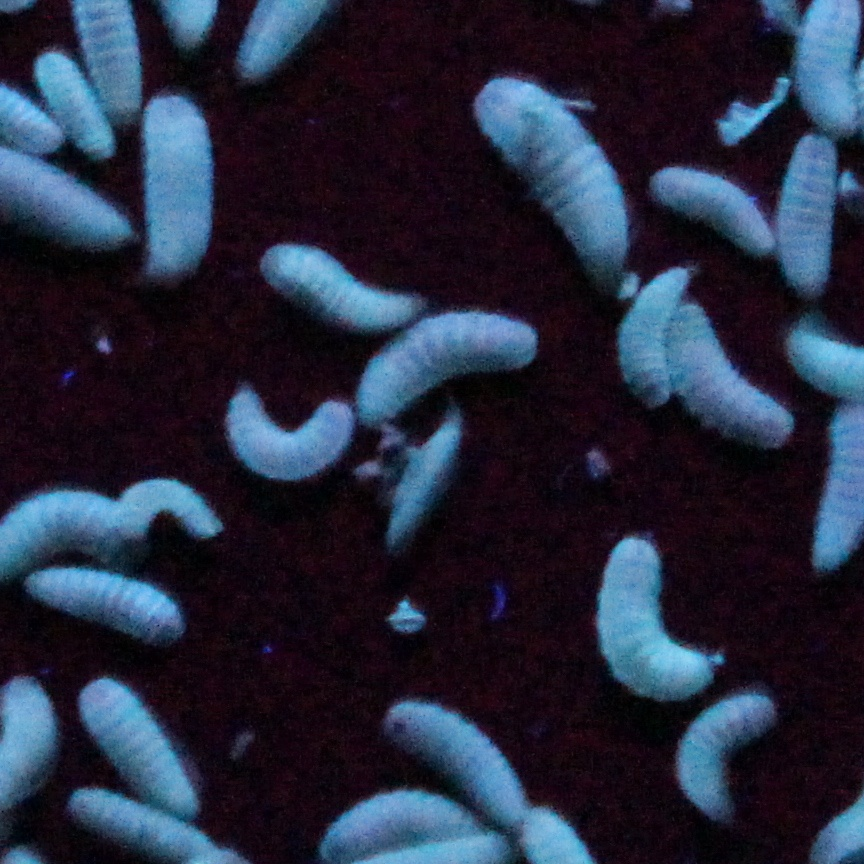larve: (467, 71, 646, 264), (599, 526, 712, 707), (358, 319, 558, 421), (385, 694, 535, 828), (133, 94, 224, 292), (78, 678, 203, 819), (253, 232, 430, 330), (369, 412, 487, 546), (19, 560, 194, 646), (671, 694, 789, 821), (228, 392, 358, 489), (619, 255, 694, 414), (314, 789, 494, 855), (67, 773, 212, 853), (655, 162, 778, 253), (776, 126, 837, 296), (33, 37, 114, 157), (110, 473, 226, 551)
